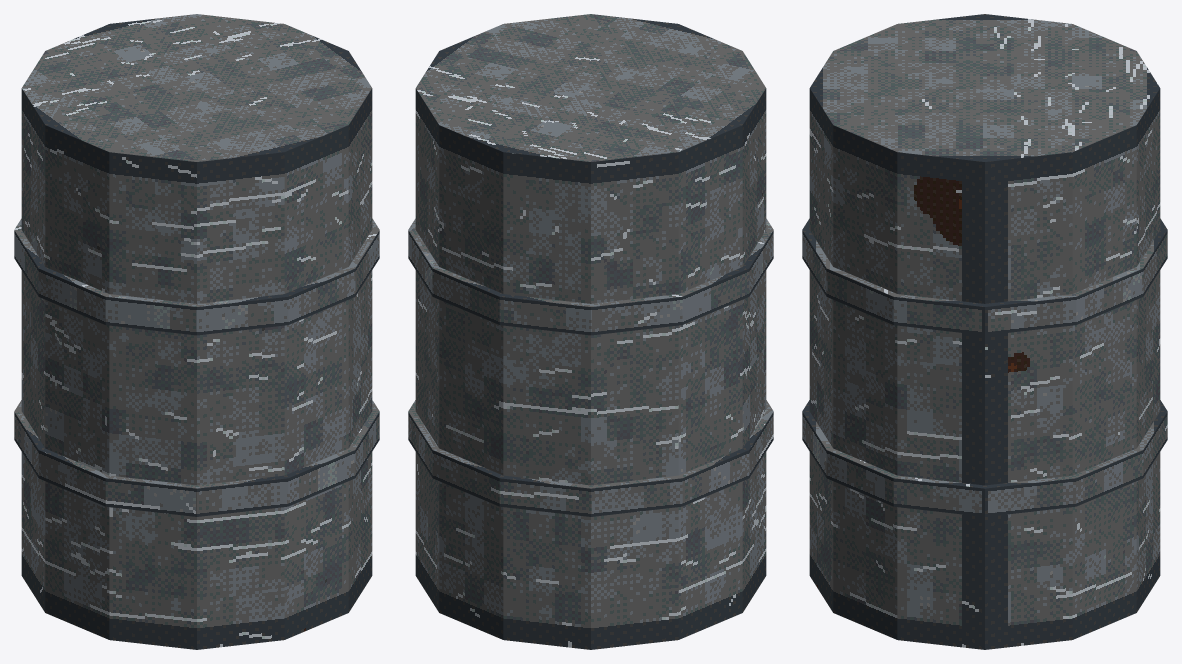
The model's file is SM_Barrel_Steel_01.glb.
3 views of the same model, side by side, from view 1: azimuth 30°, elevation 25°; view 2: azimuth 150°, elevation 25°; view 3: azimuth 270°, elevation 25° (orthographic).
Visible parts, largest first — view 1: SM_Barrel_Steel_01; view 2: SM_Barrel_Steel_01; view 3: SM_Barrel_Steel_01.
Boxes of the visible parts, bbox=[...] form: SM_Barrel_Steel_01: bbox=[14, 14, 379, 649]; SM_Barrel_Steel_01: bbox=[408, 14, 773, 649]; SM_Barrel_Steel_01: bbox=[802, 14, 1167, 649].
Size of the model in its own units: 0.584 by 0.86 by 0.584.
Materials: 1 (1 with a texture image).
